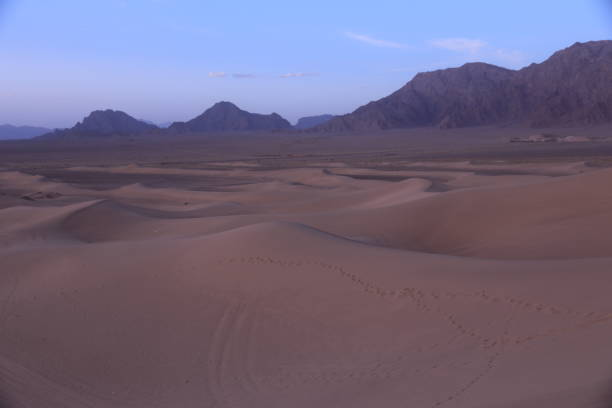human_foot_print: (237, 253, 611, 346)
